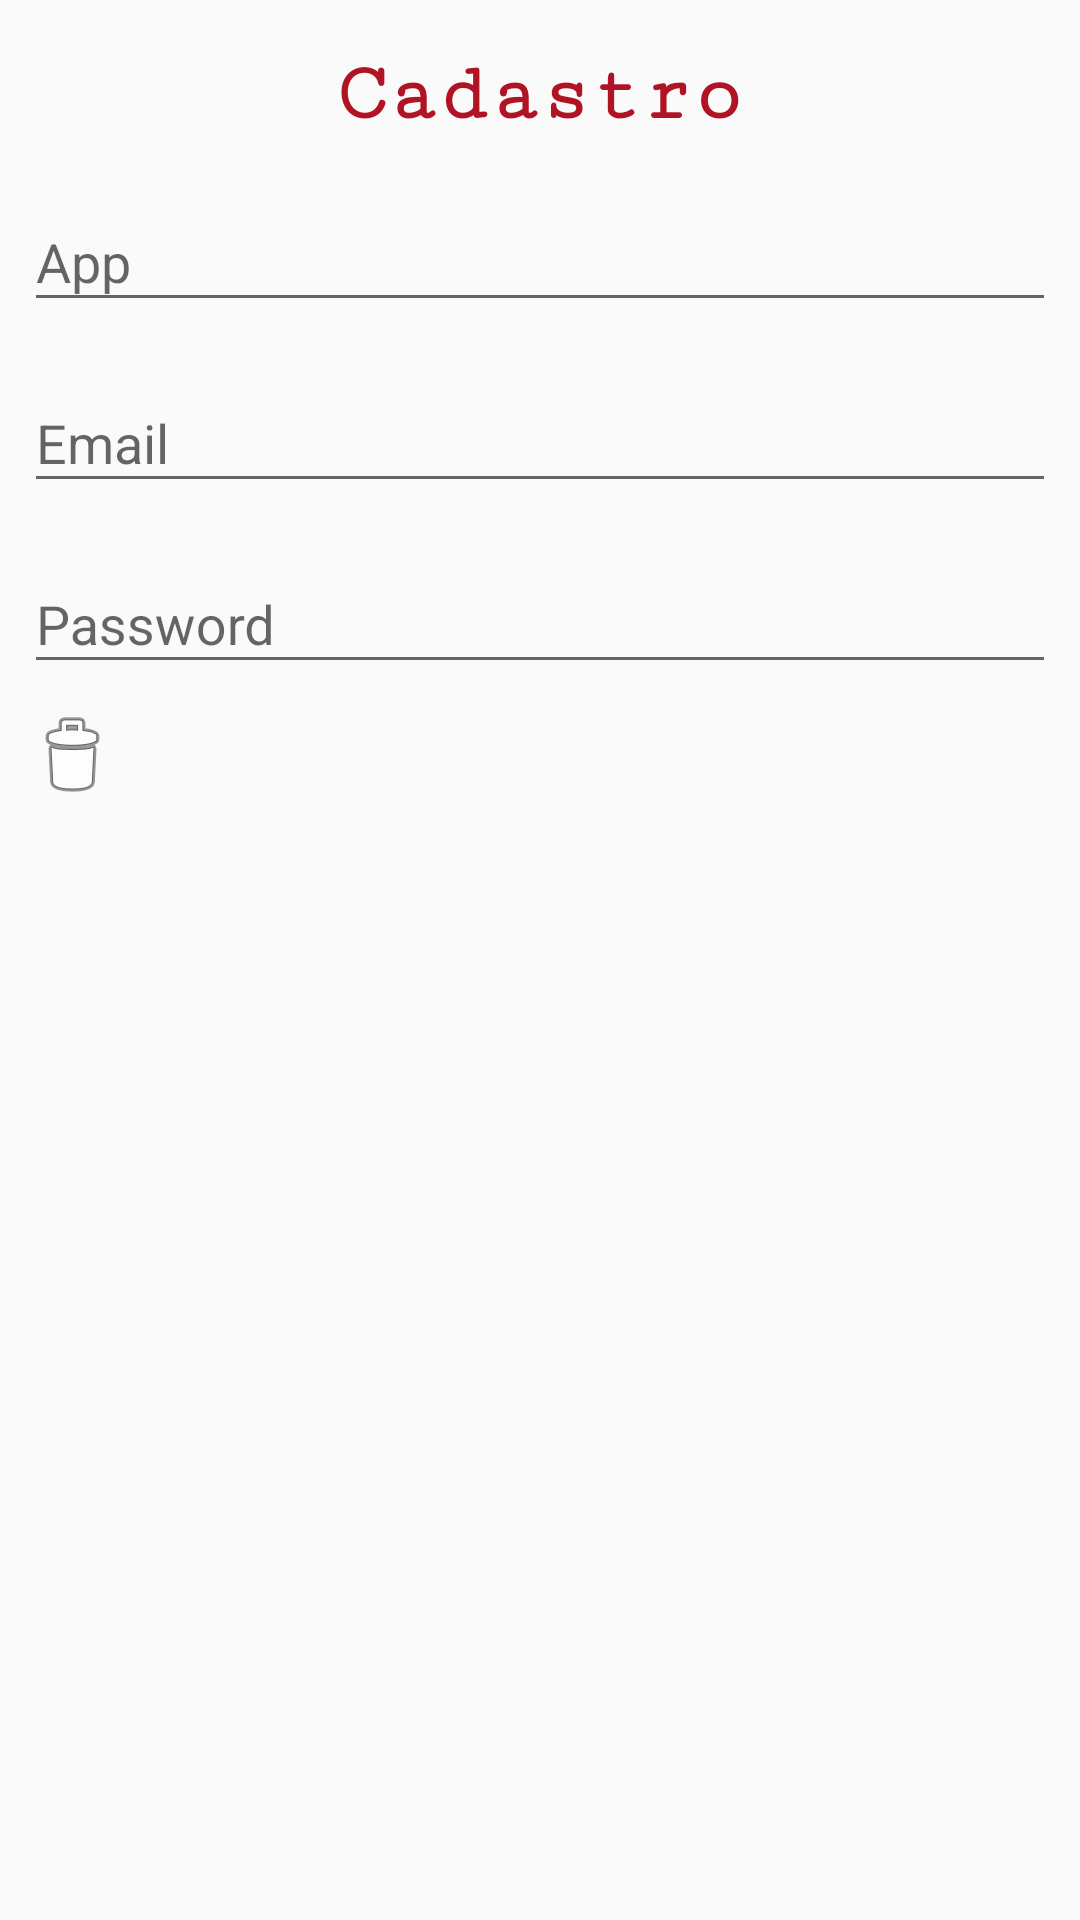

Icons on this 1080px×1920px Android screen, each with its box as Rect(x1, y1, x2, y2):
delete: Rect(45, 717, 100, 792)
